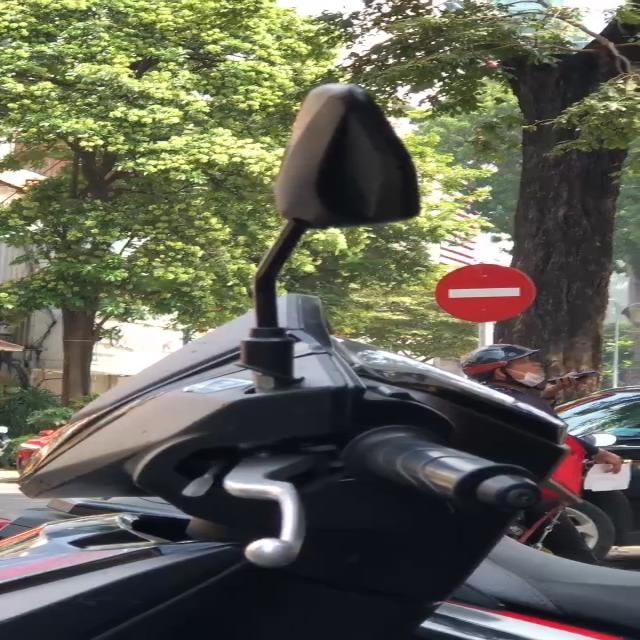Bien bao cam di nguoc chieu: (429, 258, 547, 329)
